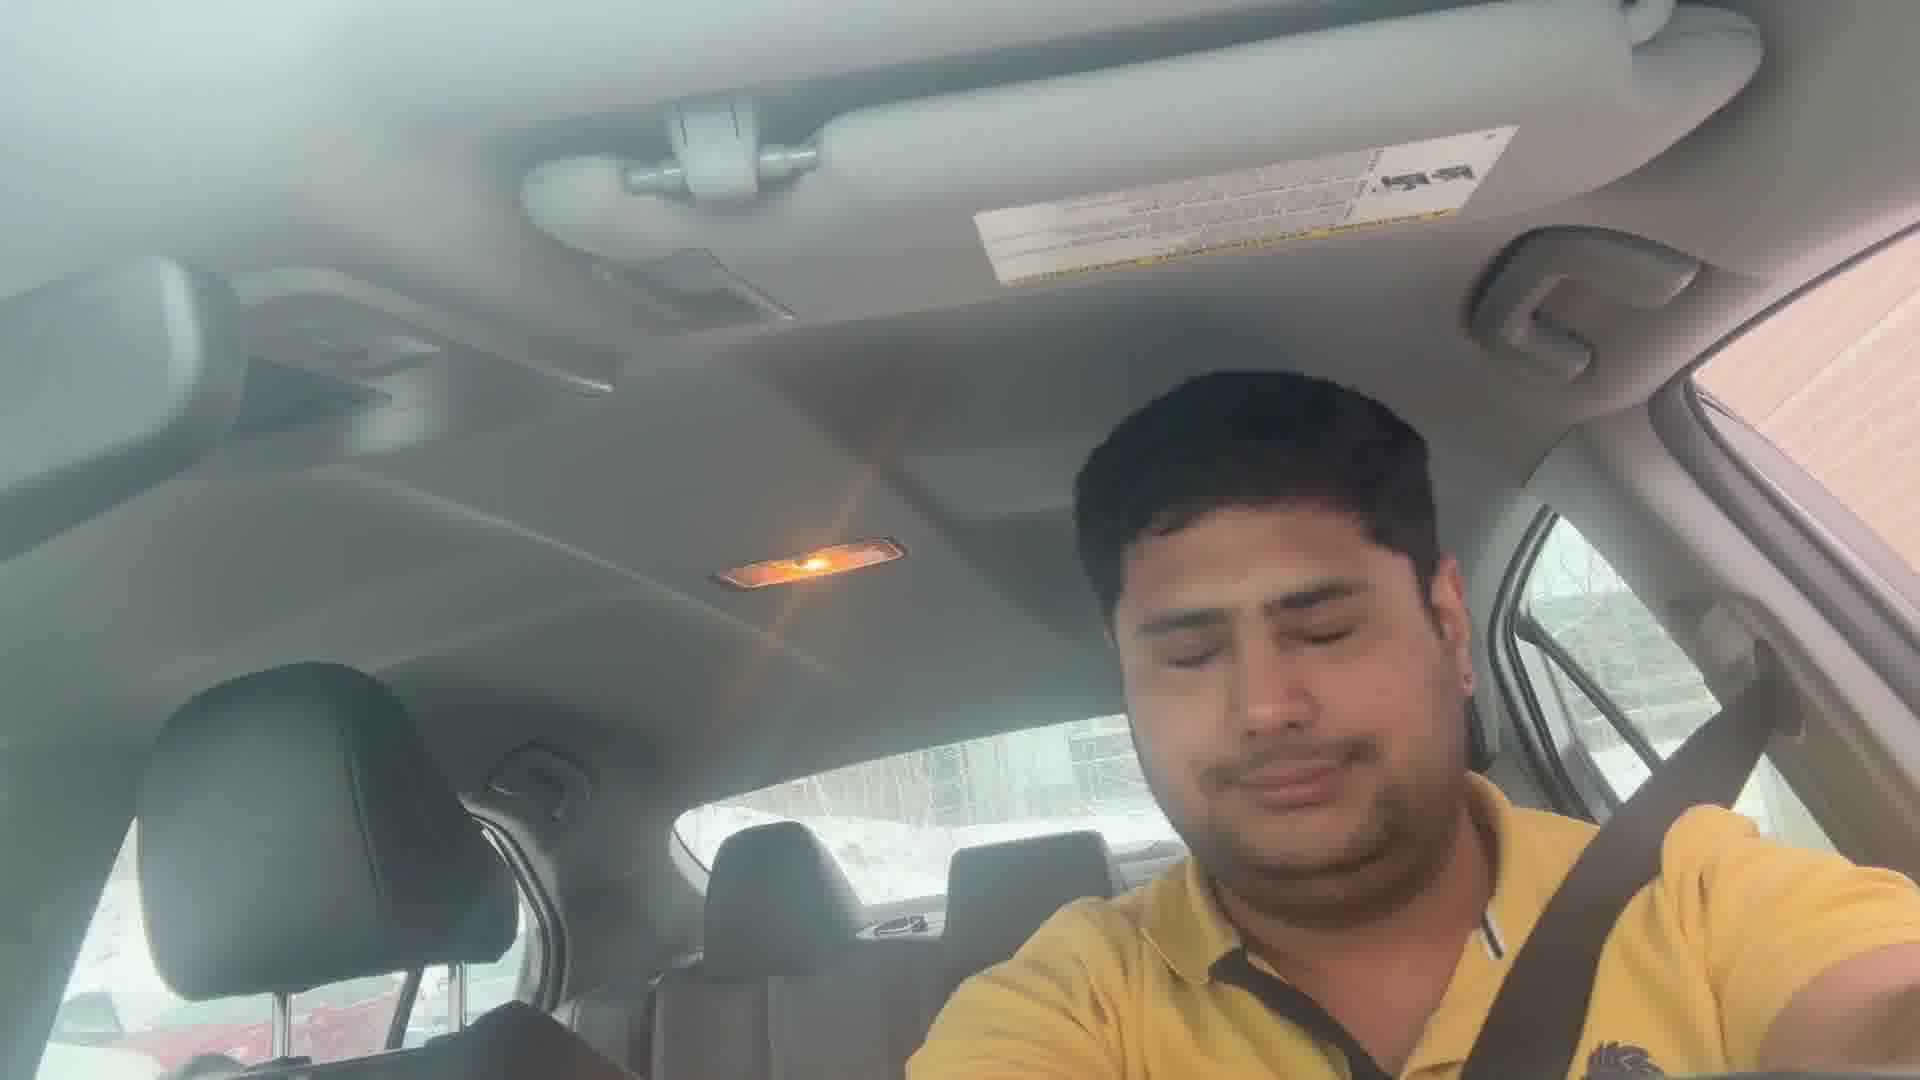seatbelt: (1465, 615, 1857, 1073)
